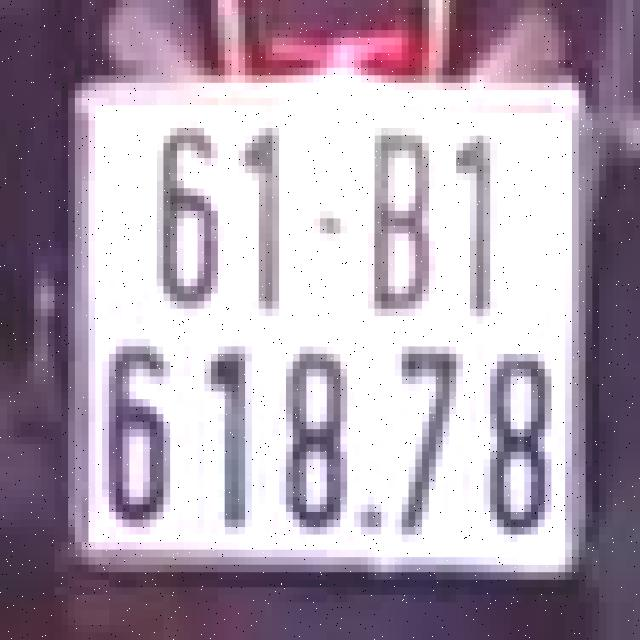1: (198, 335, 272, 553), (442, 120, 504, 347), (235, 109, 296, 320)
6: (89, 316, 170, 550), (150, 125, 224, 312)
7: (378, 320, 466, 561)
8: (463, 335, 558, 561), (276, 331, 364, 550)
B: (364, 117, 439, 320)
